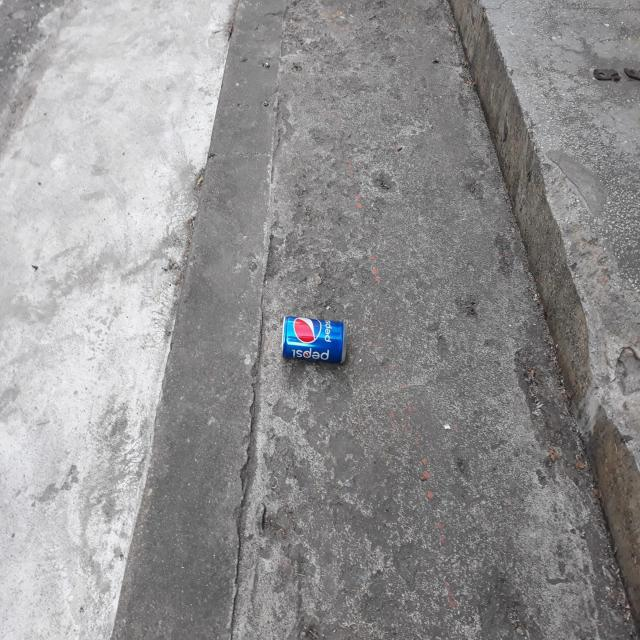can: (282, 316, 347, 363)
